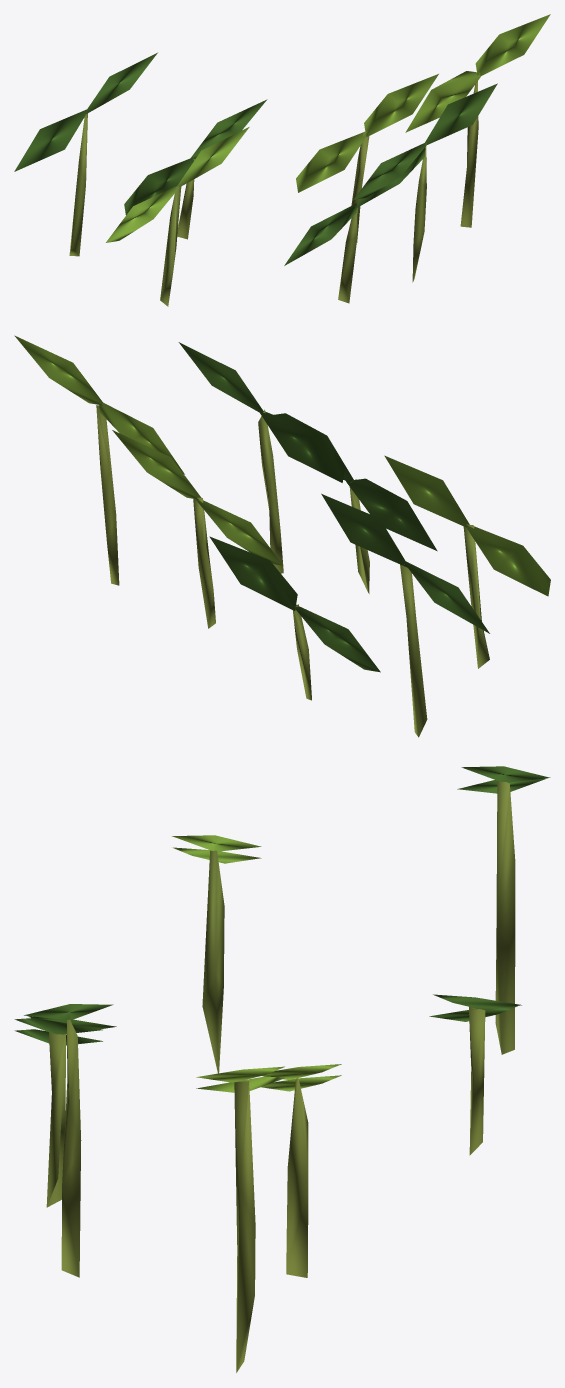
The model's file is mire_gc_sprouts_lod2.glb.
3 views of the same model, one above another, from view 1: azimuth 30°, elevation 25°; view 2: azimuth 150°, elevation 25°; view 3: azimuth 270°, elevation 25° (orthographic). The views are drawn at different scales.
Parts seen in each view (by area): view 1: mire_gc_sprouts.001; view 2: mire_gc_sprouts.001; view 3: mire_gc_sprouts.001.
Boxes of the visible parts, x1,y1,x2,y2 form: mire_gc_sprouts.001: (14,14,550,306); mire_gc_sprouts.001: (14,335,550,737); mire_gc_sprouts.001: (14,766,550,1372).
Size of the model in its own units: 3.88 by 1.53 by 1.93.
